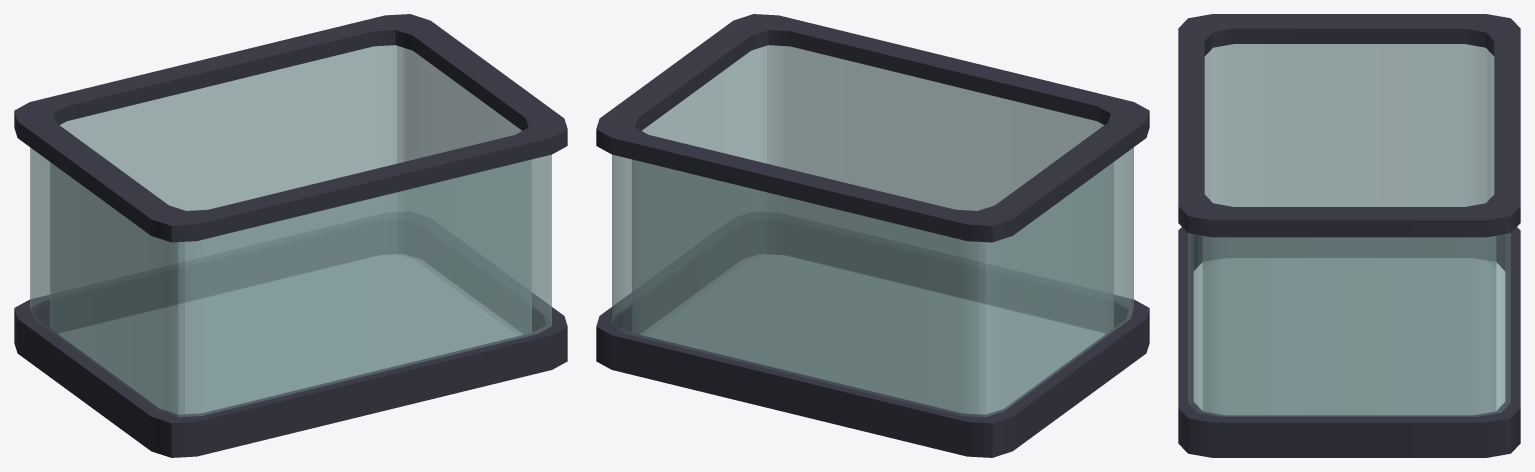
Rendered from Acquario.fbx.
3 renders of one model, left to right at view 1: azimuth 30°, elevation 25°; view 2: azimuth 150°, elevation 25°; view 3: azimuth 270°, elevation 25°, orthographic. The views are drawn at different scales.
Visible parts, largest first — view 1: pCube5; view 2: pCube5; view 3: pCube5.
Part boxes in pixels (x1,y1,x2,y2): pCube5: (14, 14, 567, 457); pCube5: (596, 14, 1149, 457); pCube5: (1178, 14, 1520, 457).
Size of the model in its own units: 7.65 by 4.11 by 5.36.
